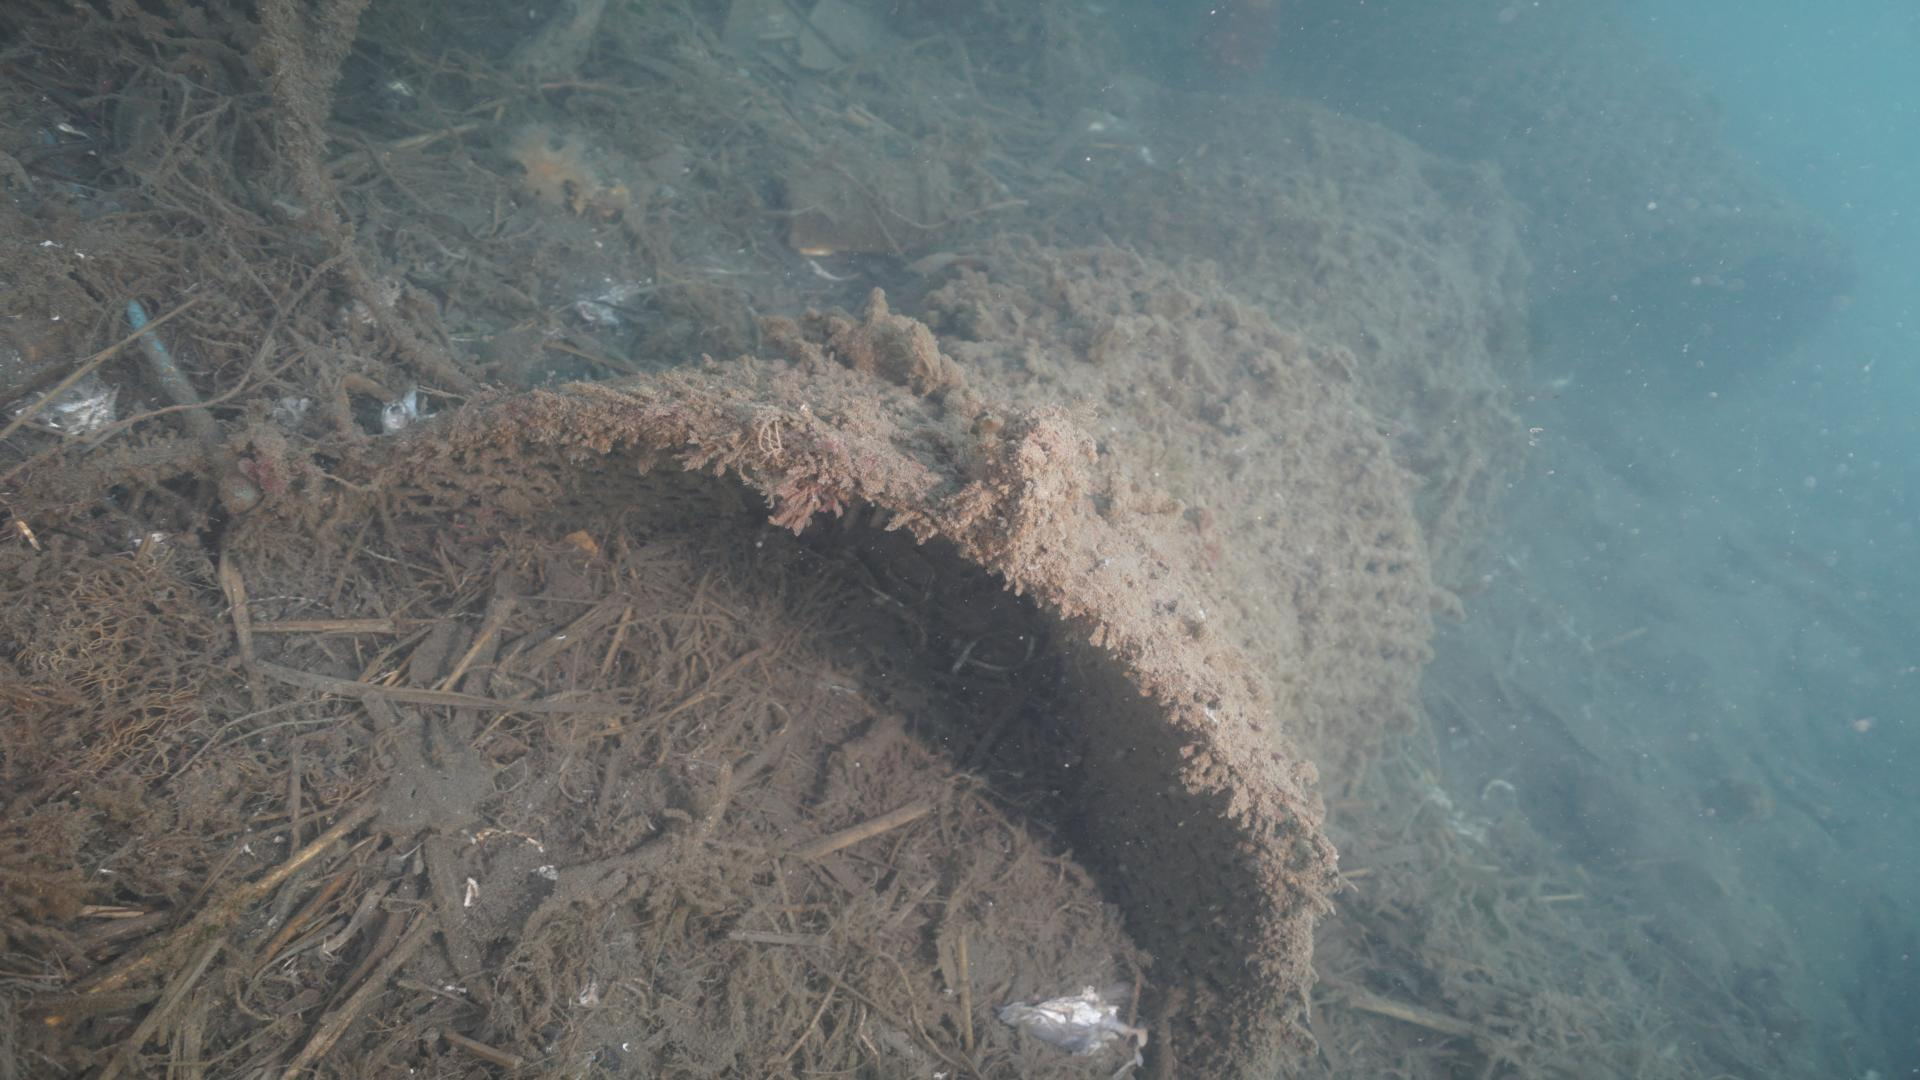spring fish trap: (344, 87, 1549, 1080)
